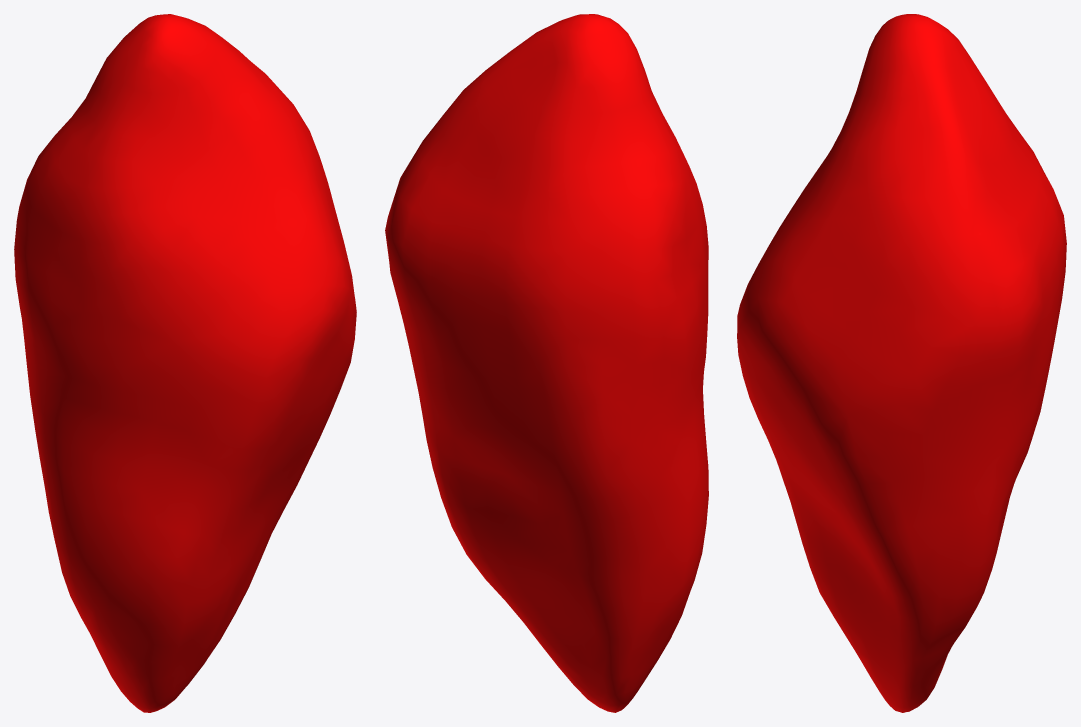
Rendered from crystal.fbx.
3 views of the same model, side by side, from view 1: azimuth 30°, elevation 25°; view 2: azimuth 150°, elevation 25°; view 3: azimuth 270°, elevation 25° (orthographic). The views are drawn at different scales.
Parts seen in each view (by area): view 1: K_lo; view 2: K_lo; view 3: K_lo.
Part boxes in pixels (bbox=[...]): K_lo: bbox=[14, 14, 356, 712]; K_lo: bbox=[385, 14, 708, 712]; K_lo: bbox=[737, 14, 1066, 712].
Size of the model in its own units: 1.6 by 3.64 by 1.55.
